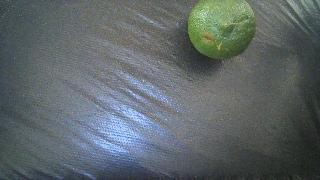DESECHO: (188, 0, 256, 59)
